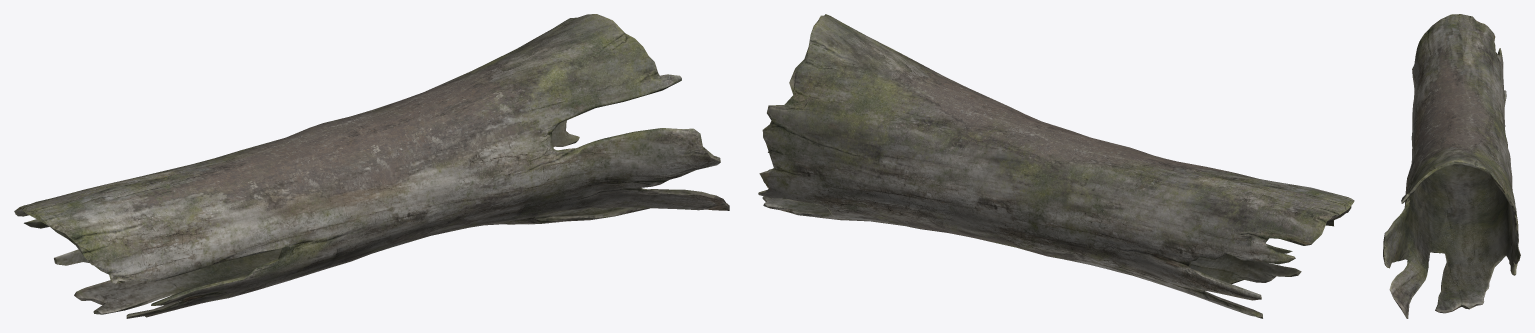
Rendered from SM_FloatingTreeTrunk.fbx.
3 views of the same model, side by side, from view 1: azimuth 30°, elevation 25°; view 2: azimuth 150°, elevation 25°; view 3: azimuth 270°, elevation 25° (orthographic). The views are drawn at different scales.
Parts seen in each view (by area): view 1: SM_FloatingTreeTrunk_LOD0; view 2: SM_FloatingTreeTrunk_LOD0; view 3: SM_FloatingTreeTrunk_LOD0.
Part boxes in pixels (x1,y1,x2,y2): SM_FloatingTreeTrunk_LOD0: (14, 14, 729, 318); SM_FloatingTreeTrunk_LOD0: (758, 14, 1354, 318); SM_FloatingTreeTrunk_LOD0: (1383, 14, 1520, 318).
Bounding box in the file's own units: 381 × 102 × 110.
